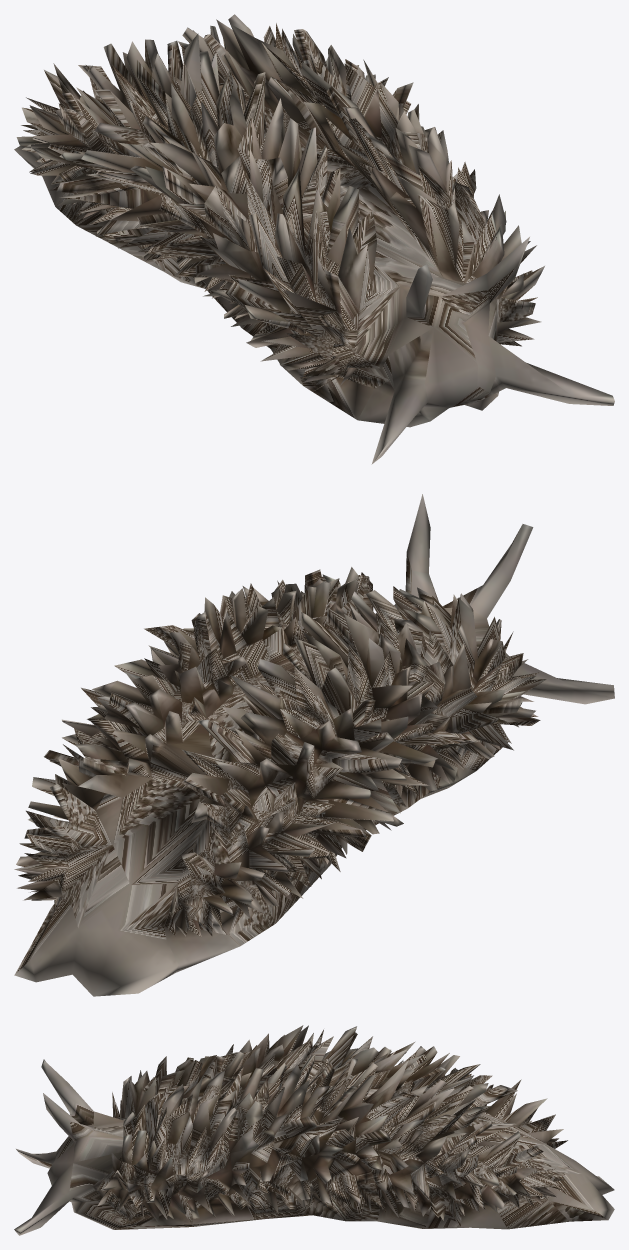
Rendered from vlokslak.glb.
3 views of the same model, one above another, from view 1: azimuth 30°, elevation 25°; view 2: azimuth 150°, elevation 25°; view 3: azimuth 270°, elevation 25° (orthographic). The views are drawn at different scales.
Visible parts, largest first — view 1: tripo_node_e1c0d67b-d90b-490a-9d9a-d8ecff6e389d; view 2: tripo_node_e1c0d67b-d90b-490a-9d9a-d8ecff6e389d; view 3: tripo_node_e1c0d67b-d90b-490a-9d9a-d8ecff6e389d.
Boxes of the visible parts, box(x1,y1,x2,y2) form: tripo_node_e1c0d67b-d90b-490a-9d9a-d8ecff6e389d: box(14, 14, 614, 464); tripo_node_e1c0d67b-d90b-490a-9d9a-d8ecff6e389d: box(14, 494, 614, 996); tripo_node_e1c0d67b-d90b-490a-9d9a-d8ecff6e389d: box(14, 1025, 614, 1235).
Bounding box in the file's own units: 0.2229 × 0.1481 × 0.4981.
Materials: 1 (1 with a texture image).
